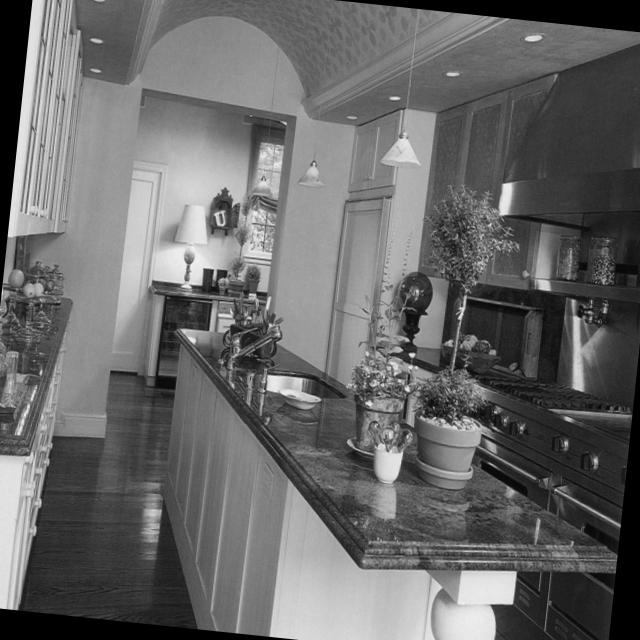2001: (250, 133, 286, 252)
2016: (154, 294, 211, 384)
artichoke: (473, 342, 489, 353)
bottle crop: (0, 326, 8, 398)
bowl of yarn: (440, 335, 500, 376)
cabinet door: (0, 332, 65, 609), (347, 111, 403, 191)
cabinets: (417, 73, 557, 290), (8, 0, 83, 232)
canister: (584, 235, 620, 283), (556, 234, 581, 279)
ceiling beam: (79, 0, 640, 124)
counter: (175, 328, 613, 570), (0, 296, 74, 454), (375, 346, 502, 384)
cup: (370, 423, 409, 484)
curtain crop: (245, 123, 284, 210)
decanter: (13, 301, 38, 348), (30, 299, 51, 332), (0, 296, 18, 331)
dishwasher: (213, 299, 263, 328)
dispenser: (576, 296, 609, 328)
door bars: (111, 161, 166, 372)
electrial outlet: (258, 463, 272, 496)
electrical outlet: (188, 364, 196, 381)
faucet handle: (228, 324, 281, 368)
floor -X: (19, 372, 195, 627)
glass ceiling: (0, 350, 18, 406)
glass sculpture -X: (400, 270, 430, 347)
jar -X: (46, 261, 62, 302), (26, 257, 42, 275)
jars: (201, 268, 213, 291), (213, 267, 227, 286)
kitchen sink: (160, 331, 615, 640)
lamp crop: (172, 200, 207, 290)
lemons: (24, 278, 44, 297)
light fixture: (296, 0, 333, 187), (250, 0, 284, 195), (379, 8, 419, 168), (523, 29, 542, 43), (442, 66, 460, 76), (86, 33, 101, 42), (389, 93, 401, 100), (346, 112, 357, 119), (91, 65, 100, 71)
limes: (40, 275, 53, 289)
object: (13, 235, 29, 271)
orange: (6, 268, 23, 285)
pepper mill: (462, 330, 476, 349)
plant -x: (350, 239, 409, 457), (230, 199, 250, 293), (245, 263, 259, 290), (217, 277, 227, 292)
plate food: (277, 388, 321, 409)
potted plant: (413, 184, 518, 489)
refrigator: (324, 200, 394, 381)
rock: (509, 360, 518, 371)
sink basin: (254, 372, 342, 397)
stove burner: (472, 297, 640, 640)
stove occluded: (498, 45, 640, 303)
tray occluded: (0, 374, 30, 416)
utensils: (232, 301, 279, 330)
wall clock: (30, 16, 352, 437), (439, 281, 566, 380)
wall decoration -x: (210, 186, 237, 235)
